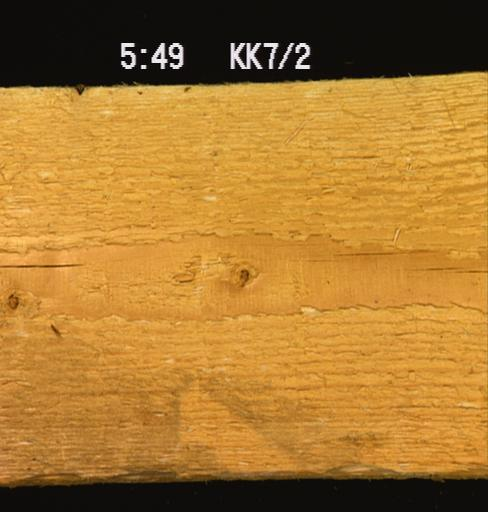dry_knot: (3, 287, 21, 312)
split: (330, 247, 401, 258), (0, 261, 89, 269), (420, 264, 487, 272)
wave: (0, 466, 487, 480)
